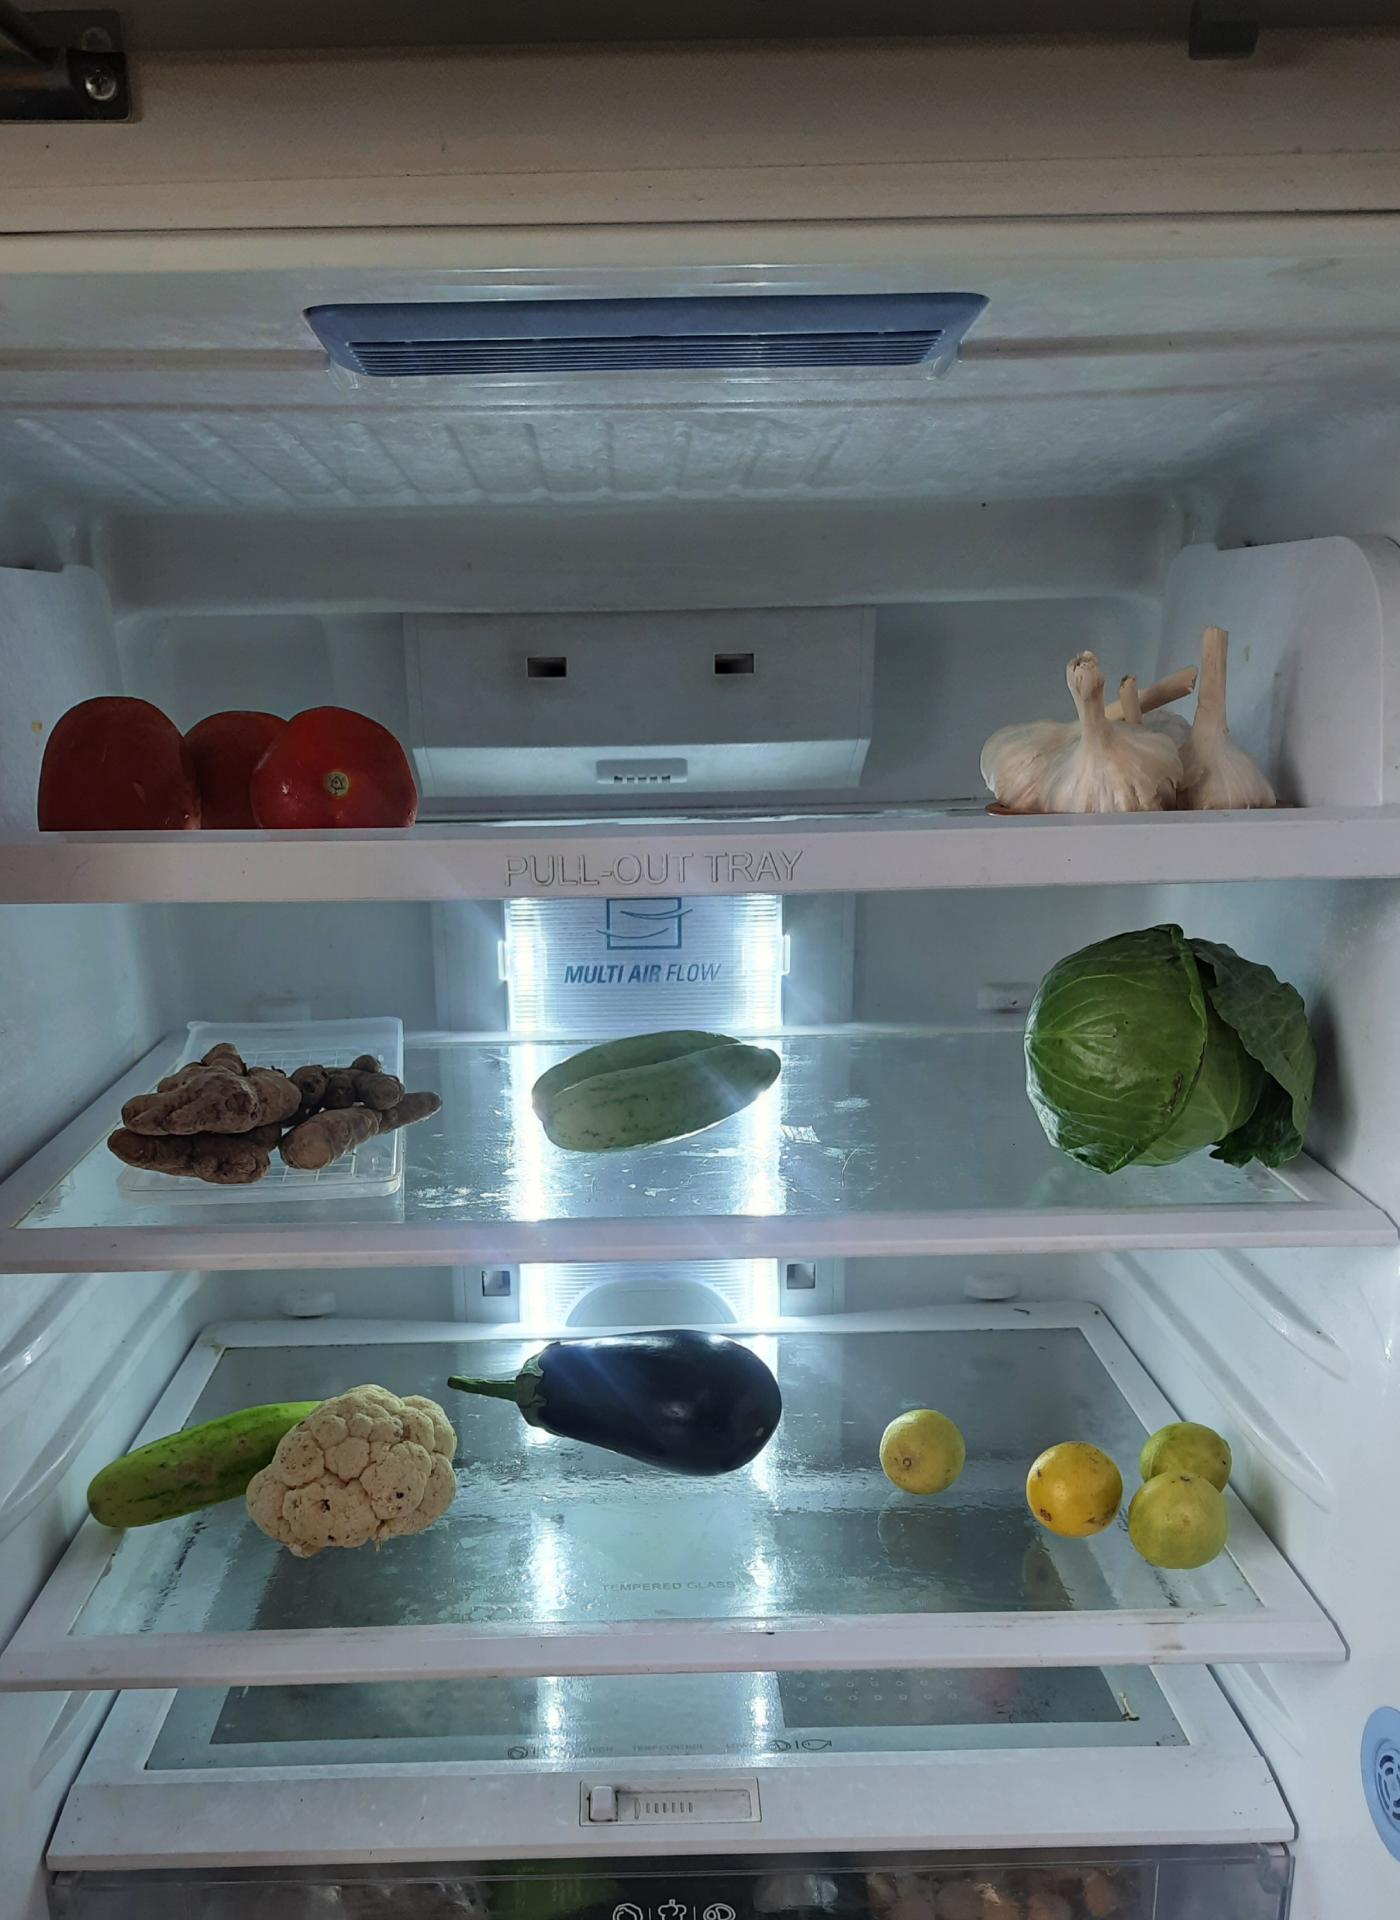brinjal: (455, 1331, 789, 1470)
cabbage: (1021, 923, 1325, 1182)
cauliflower: (242, 1385, 465, 1556)
cucumber: (86, 1395, 341, 1538), (528, 1024, 793, 1154)
garlic: (996, 626, 1276, 829)
ginger: (110, 1042, 444, 1178)
lemon: (1029, 1419, 1236, 1583), (880, 1395, 971, 1497)
tomato: (46, 702, 423, 838)
